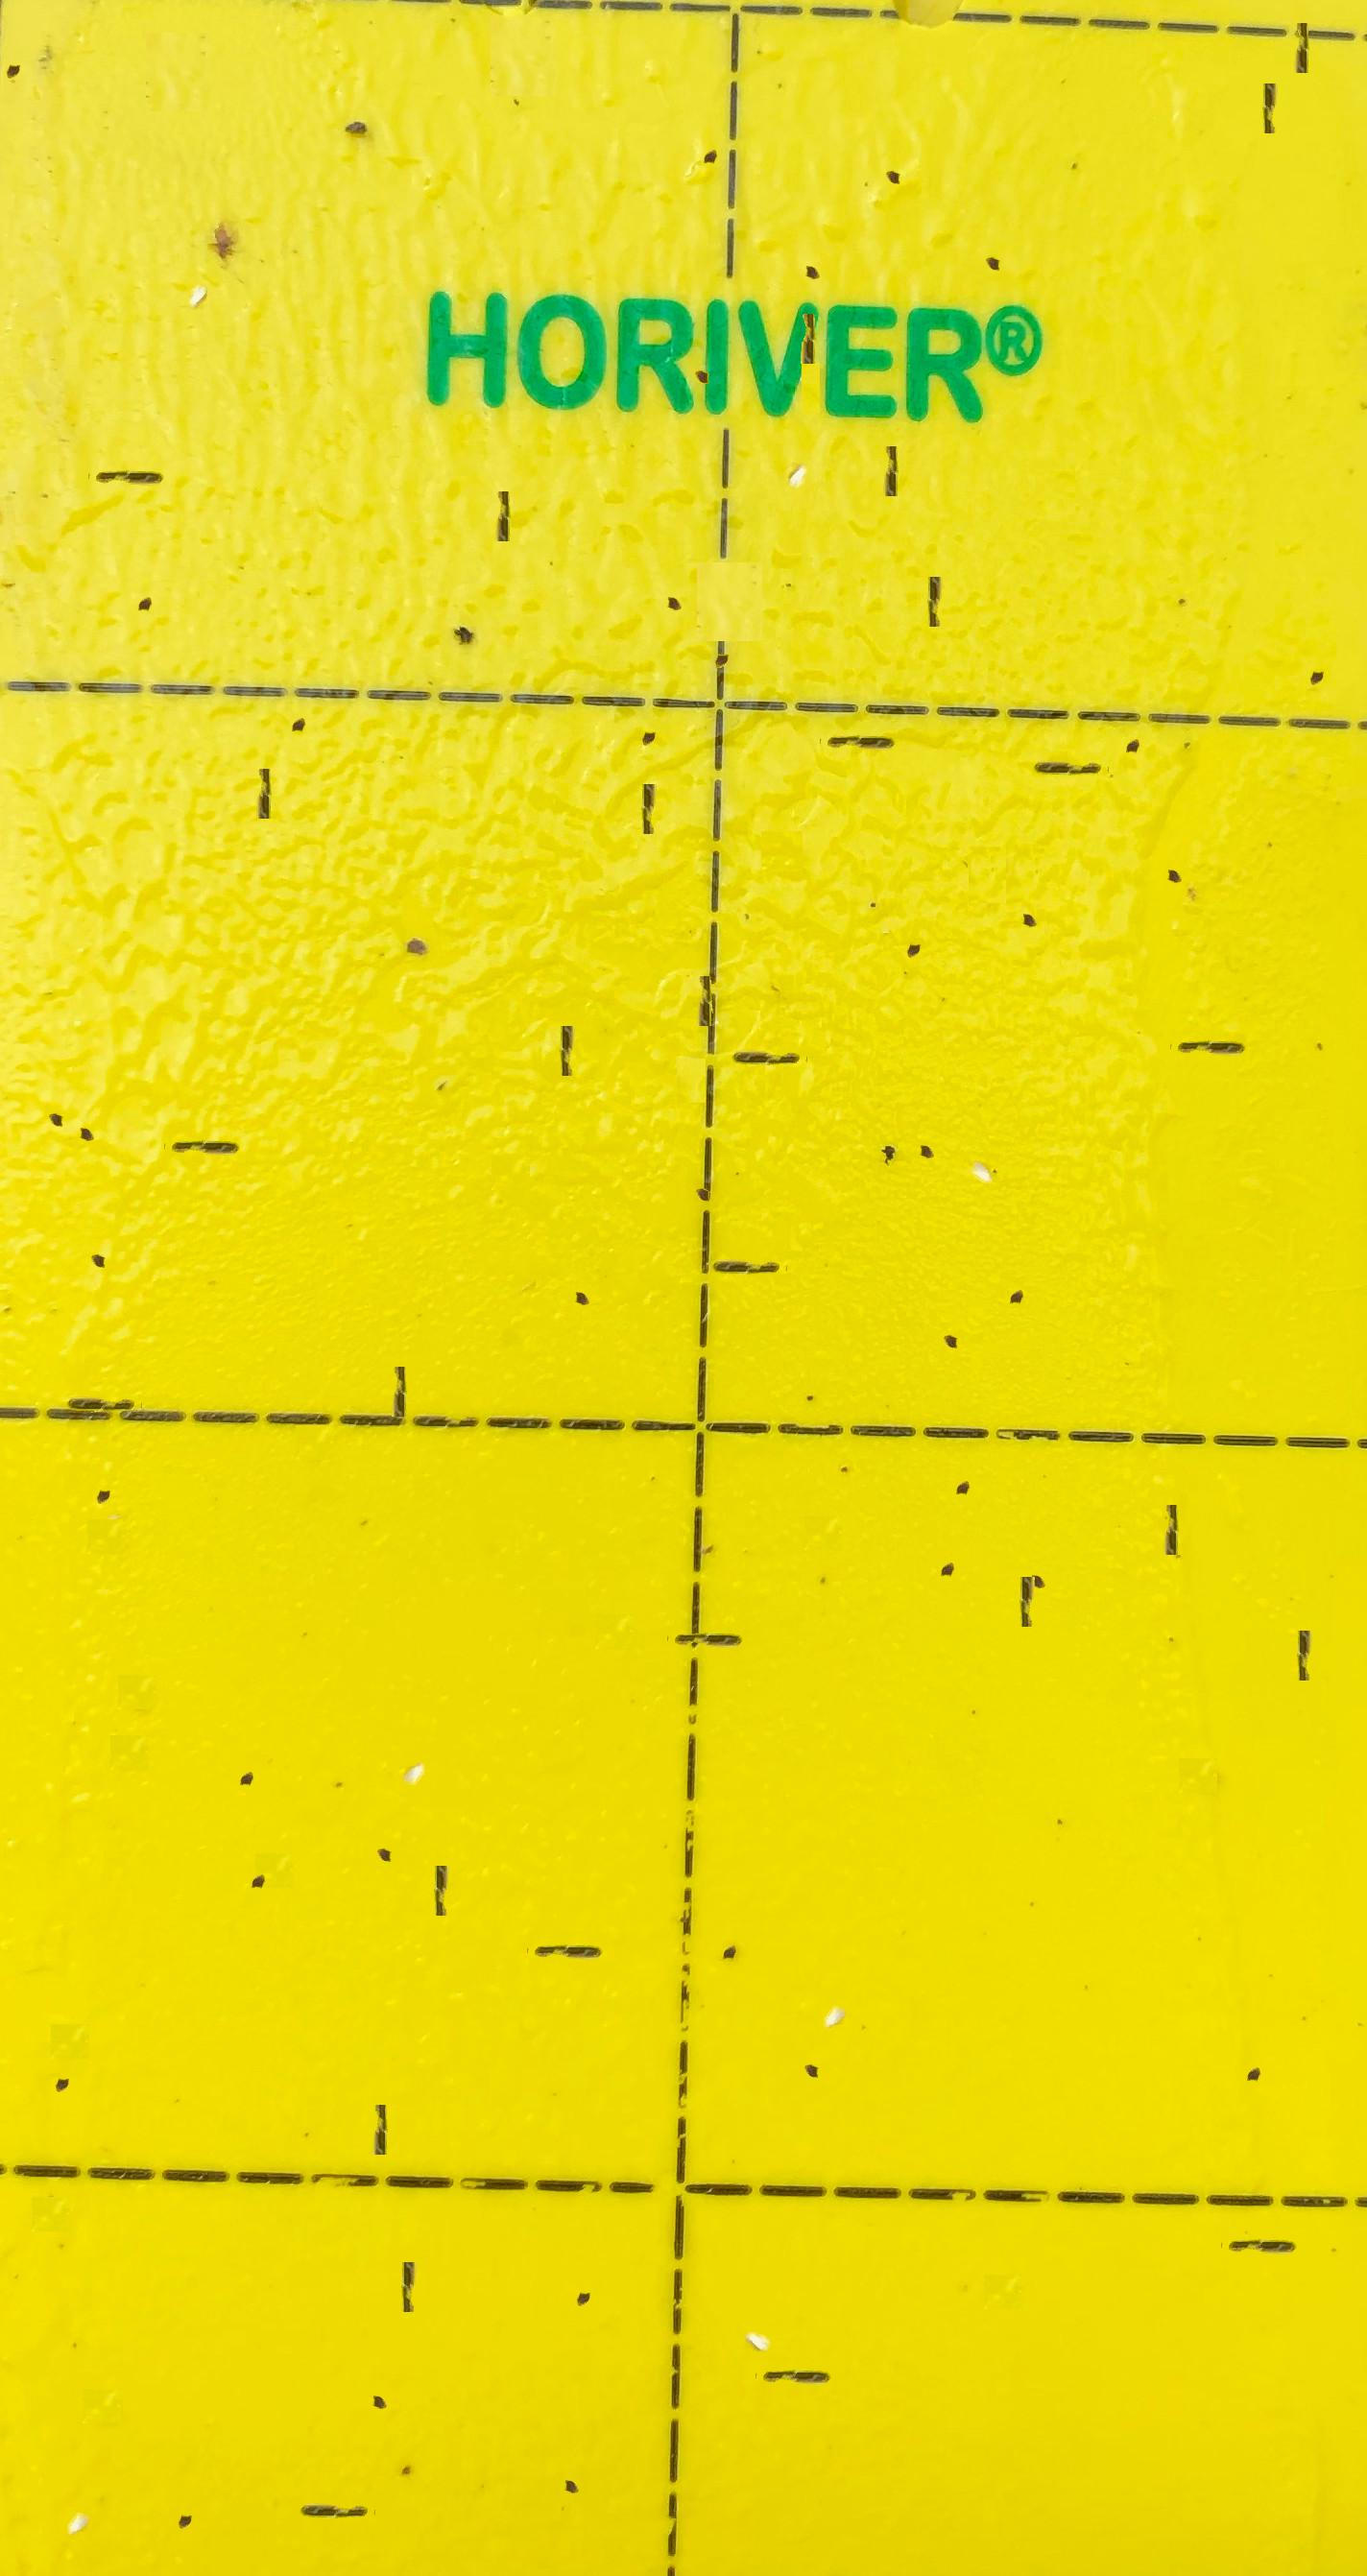white_fly: (779, 412, 822, 457), (176, 225, 216, 271), (960, 1107, 1002, 1150), (392, 1711, 435, 1753), (58, 2458, 101, 2501), (740, 2273, 781, 2317), (815, 1951, 856, 1995)
